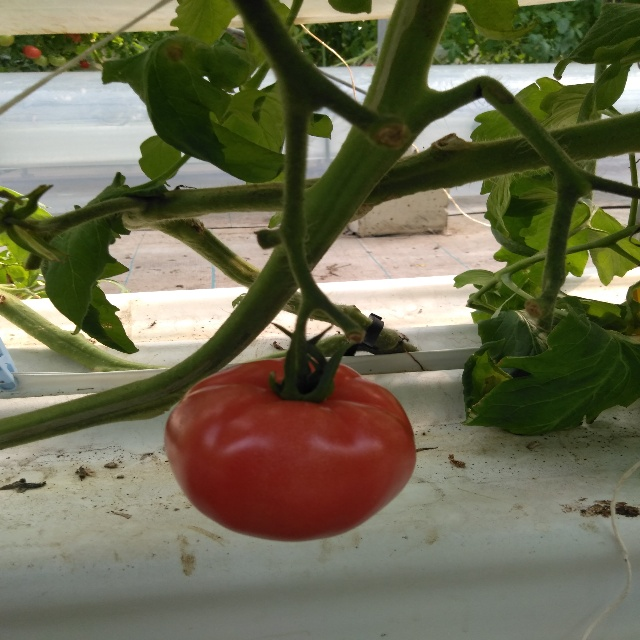b_fully_ripened: (164, 356, 418, 542)
